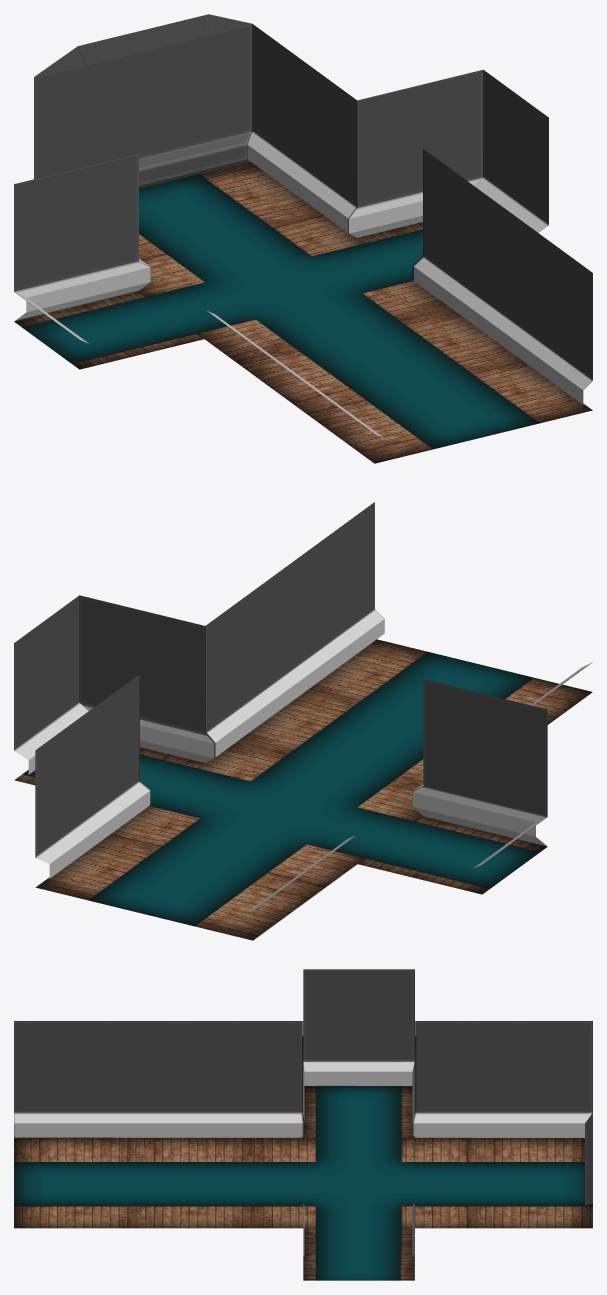
File: corredor.glb
3 renders of one model, top to bottom at view 1: azimuth 30°, elevation 25°; view 2: azimuth 150°, elevation 25°; view 3: azimuth 270°, elevation 25°, orthographic. The views are drawn at different scales.
Visible parts, largest first — view 1: Cube; view 2: Cube; view 3: Cube.
Part boxes in pixels (box(x1,y1,x2,y2)): Cube: box(14, 14, 592, 463); Cube: box(14, 502, 592, 940); Cube: box(14, 969, 592, 1280).
Size of the model in its own units: 7.15 by 2.29 by 8.98.
1 material, 1 textured.
